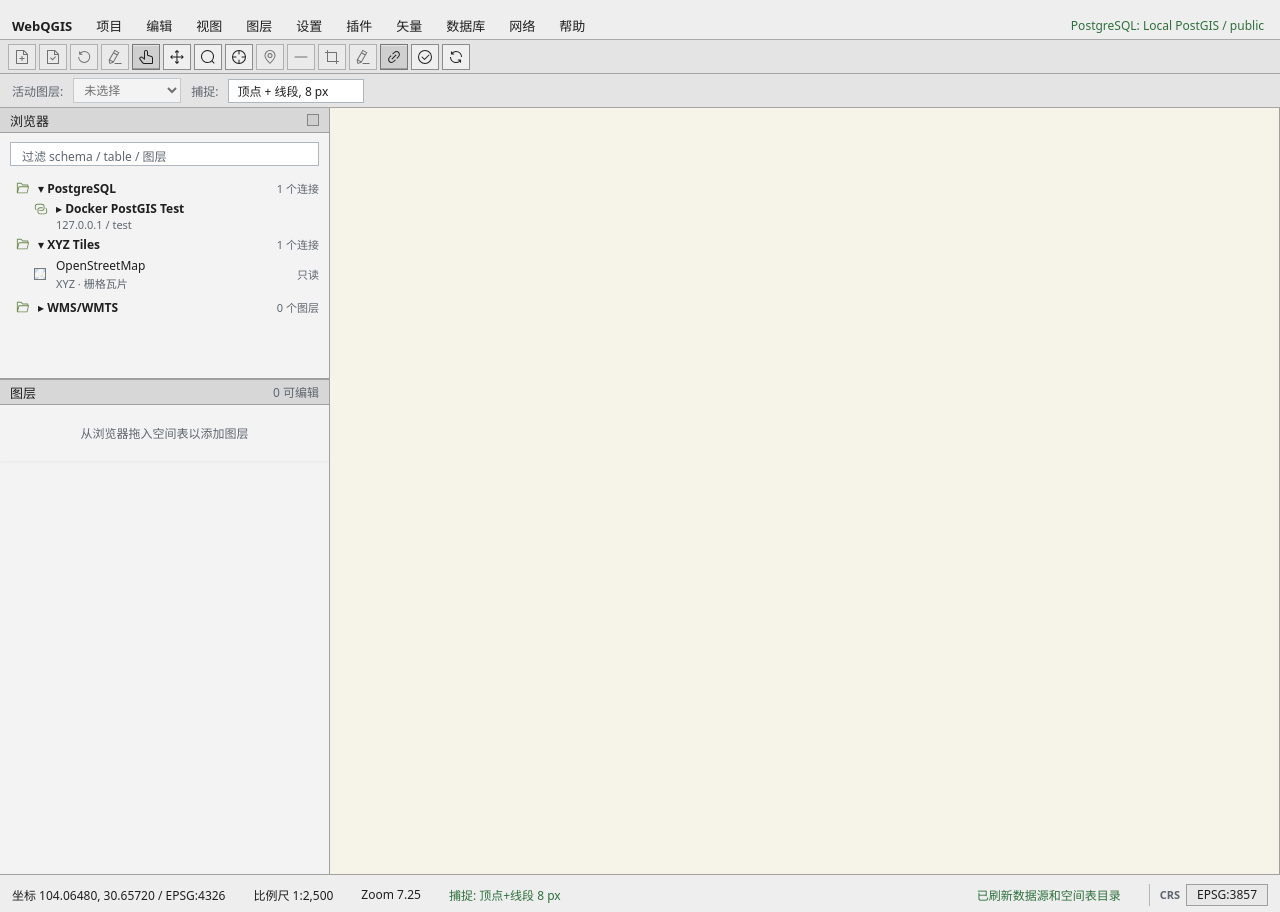
Test: WebGisWorkbench › toggles the PostgreSQL browser node when clicking it
Click the button with class "datasource-panel__tree-node--root" showing "▾ PostgreSQL 1 个连接" at (77, 188), box [10,176,319,200]
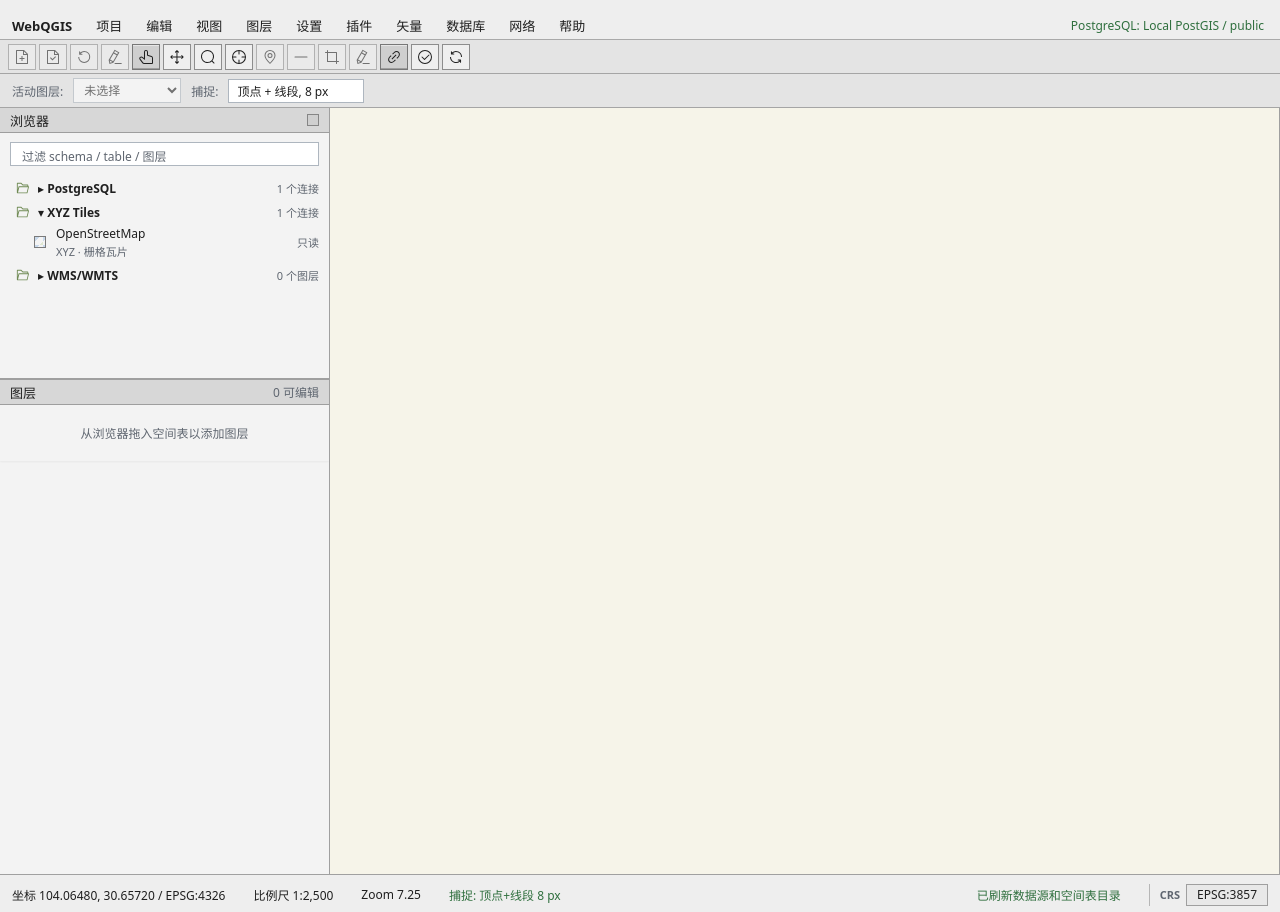
Check: the text "Docker PostGIS Test" is gone
Click the button with class "datasource-panel__tree-node--root" showing "▸ PostgreSQL 1 个连接" at (77, 188), box [10,176,319,200]
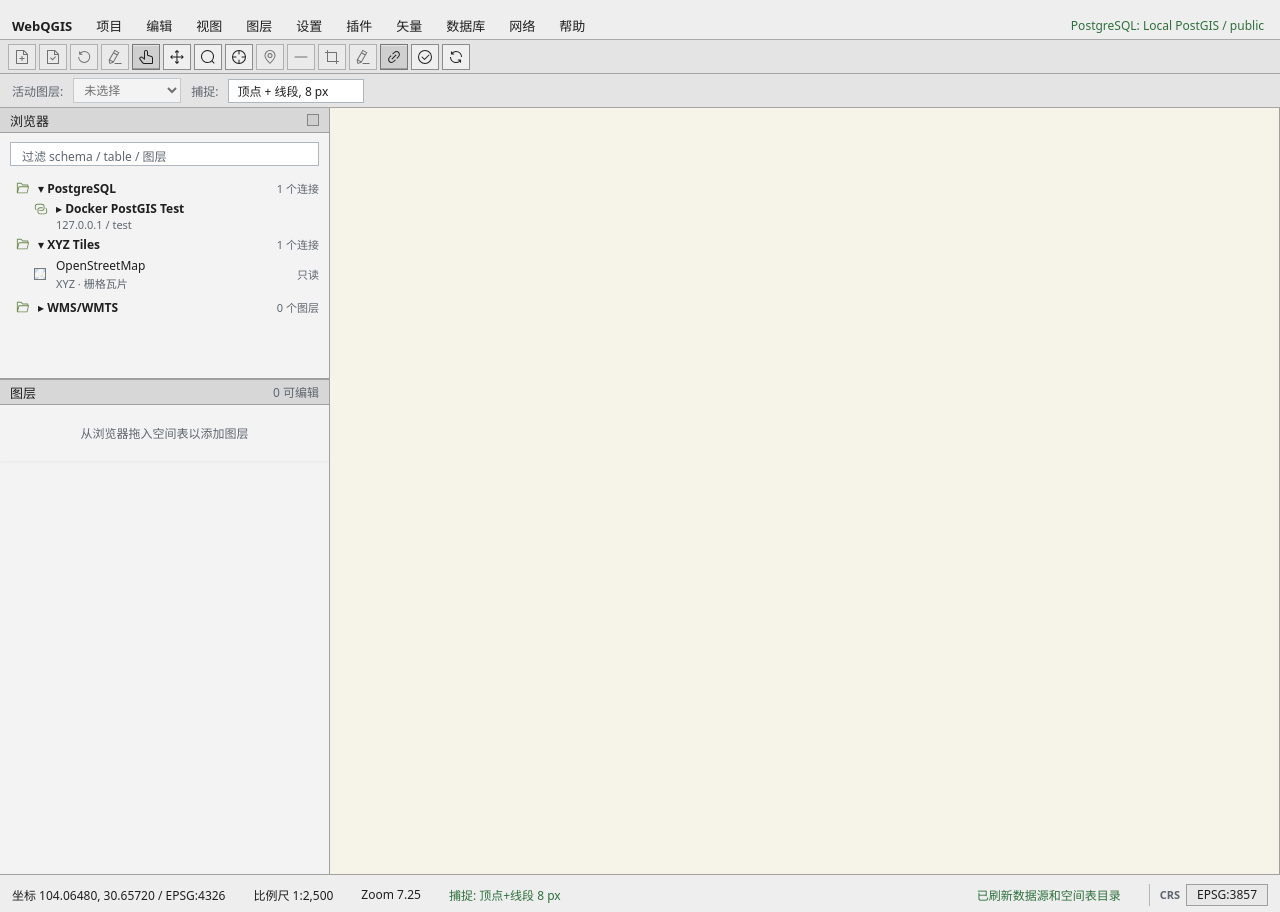
Check: the text "Docker PostGIS Test" is shown, box [56,200,184,217]
